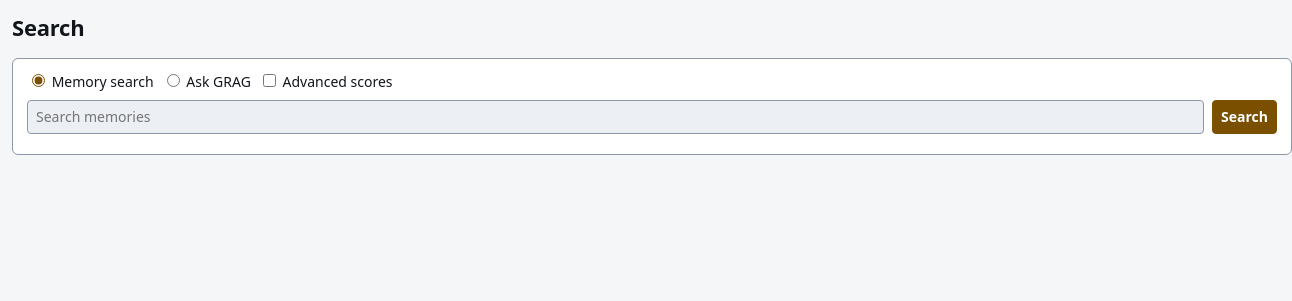
Test: empty result and error are explicit
Type "nothing" into the search field at point(616, 117), box [27, 100, 1204, 134]
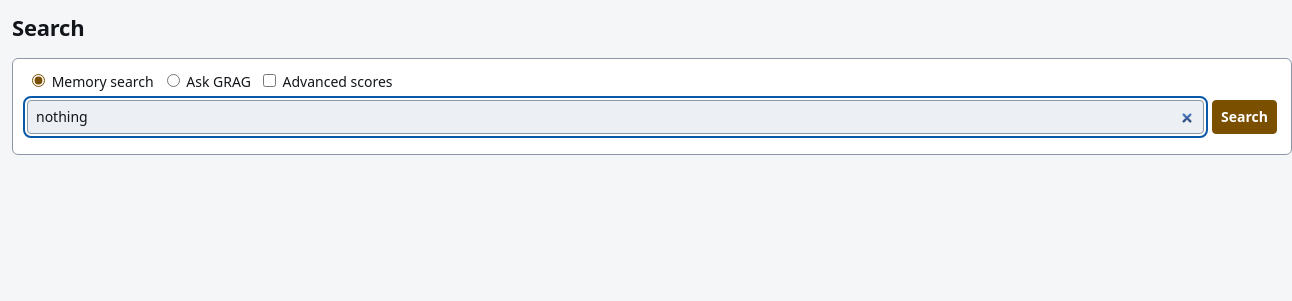
Click the button "Search" at point(1245, 117), box [1212, 100, 1277, 134]
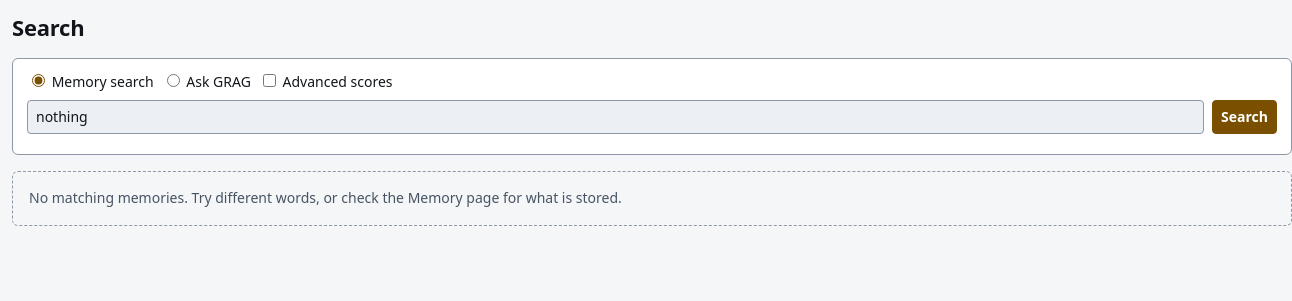
Expected: the text "No matching memories" is shown, [29, 188, 622, 208]
Click the button "Search" at point(1245, 117), box [1212, 100, 1277, 134]
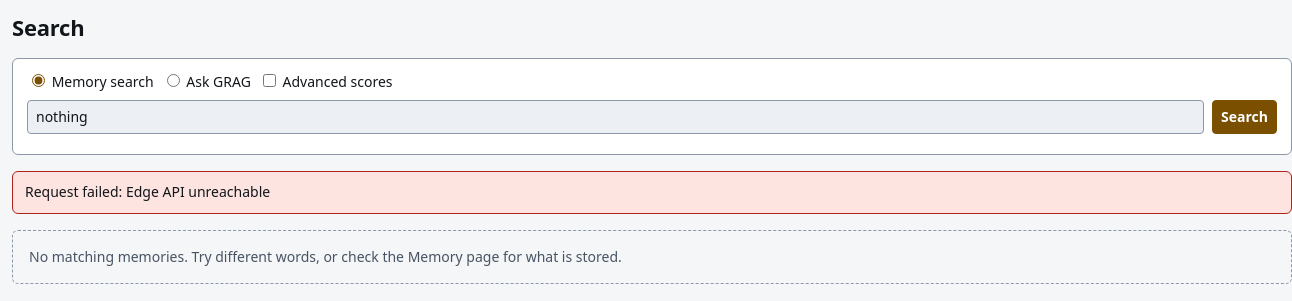
Expected: the message shows "unreachable", [126, 182, 270, 202]
